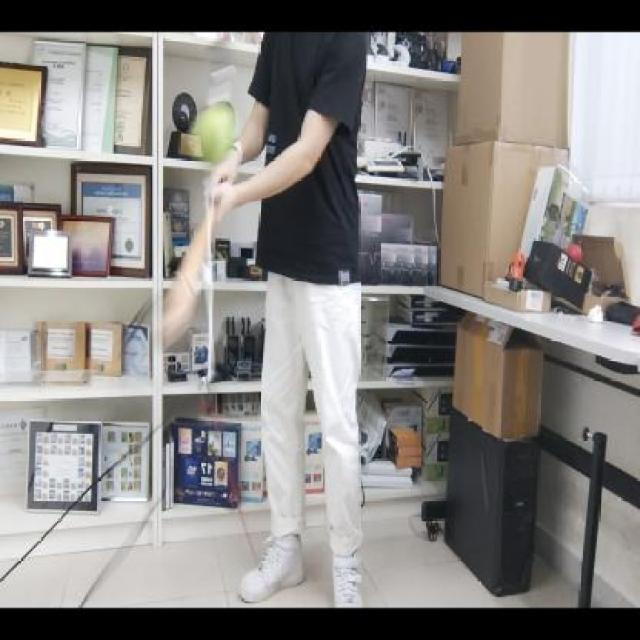baseball: (194, 102, 237, 166)
